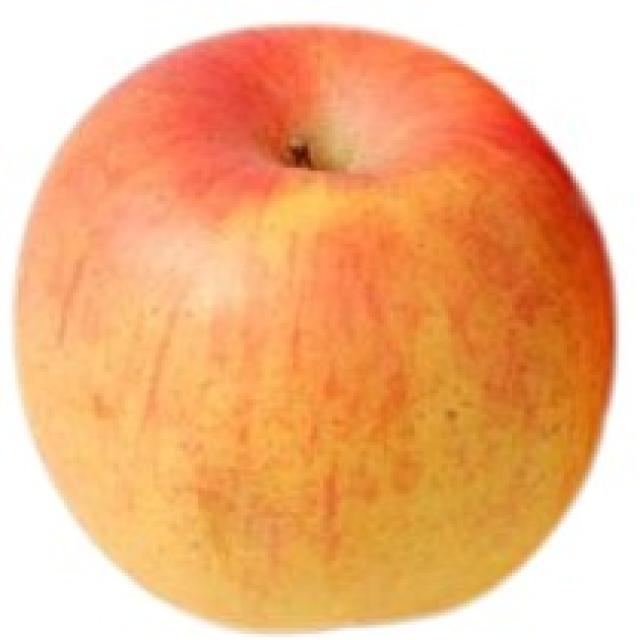75-_ripeness: (13, 28, 613, 640)
